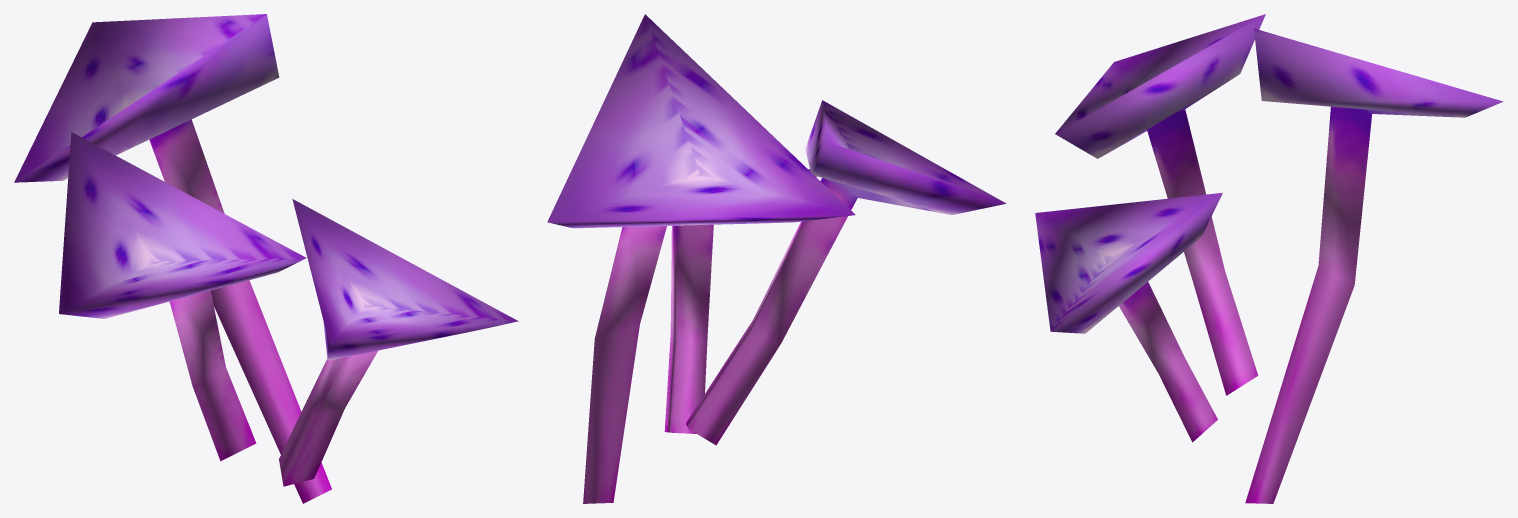
The model's file is Mushrooms03.fbx.
3 views of the same model, side by side, from view 1: azimuth 30°, elevation 25°; view 2: azimuth 150°, elevation 25°; view 3: azimuth 270°, elevation 25° (orthographic). The views are drawn at different scales.
Parts seen in each view (by area): view 1: Mushrooms03; view 2: Mushrooms03; view 3: Mushrooms03.
Part boxes in pixels (x1,y1,x2,y2): Mushrooms03: (14,14,518,503); Mushrooms03: (547,14,1006,503); Mushrooms03: (1035,14,1503,503).
Bounding box in the file's own units: 56.98 × 63.53 × 59.11.
